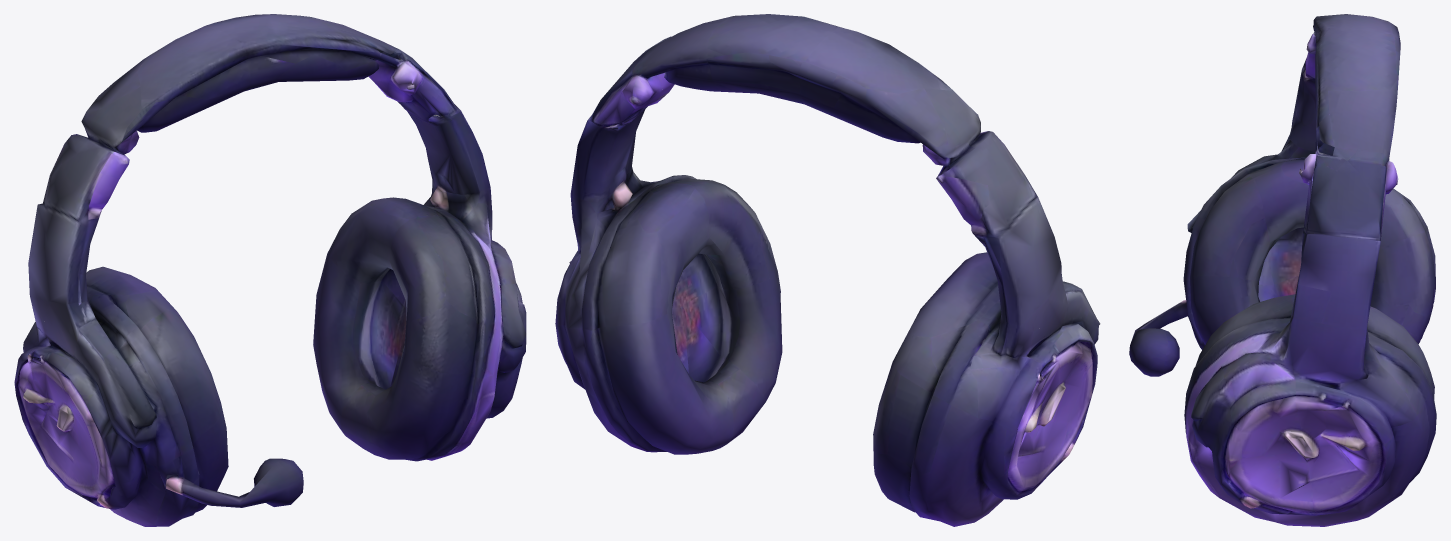
File: junior_headsetphones.glb
The picture shows the model from 3 angles, left to right: view 1: azimuth 30°, elevation 25°; view 2: azimuth 150°, elevation 25°; view 3: azimuth 270°, elevation 25°; orthographic projection. The views are drawn at different scales.
Parts seen in each view (by area): view 1: tripo_node_e7c70500-b8db-486d-9935-4867e90d8e21; view 2: tripo_node_e7c70500-b8db-486d-9935-4867e90d8e21; view 3: tripo_node_e7c70500-b8db-486d-9935-4867e90d8e21.
Part boxes in pixels (bbox=[...]): tripo_node_e7c70500-b8db-486d-9935-4867e90d8e21: bbox=[14, 14, 526, 526]; tripo_node_e7c70500-b8db-486d-9935-4867e90d8e21: bbox=[555, 14, 1100, 526]; tripo_node_e7c70500-b8db-486d-9935-4867e90d8e21: bbox=[1129, 14, 1436, 526].
Size of the model in its own units: 0.9778 by 0.9133 by 0.6055.
Materials: 1 (1 with a texture image).
